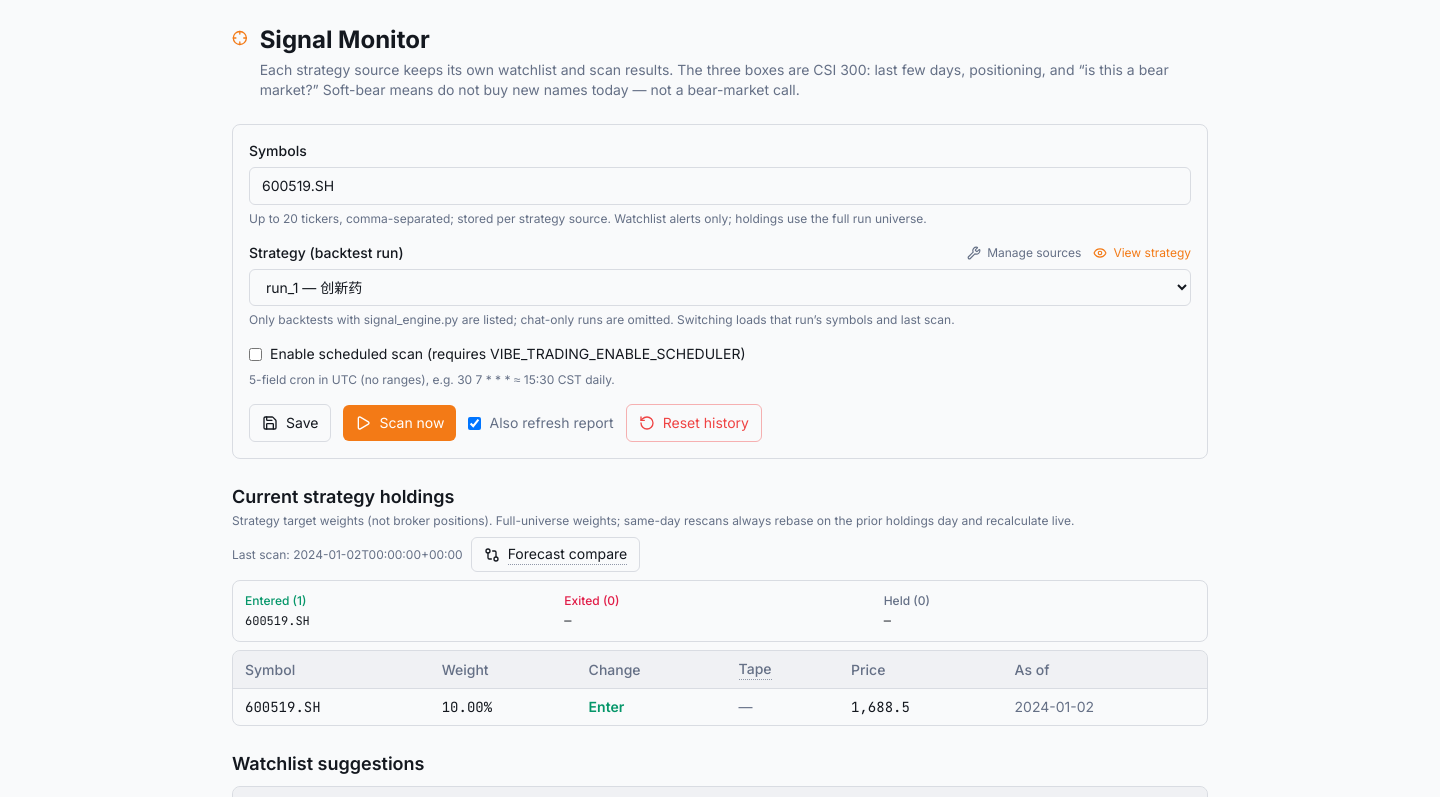
Monitor page › maintains strategy sources by deleting a run from the list
The image size is (1440, 797).
Click the button "Manage sources": coordinates (1024, 253) [967,245,1081,261]
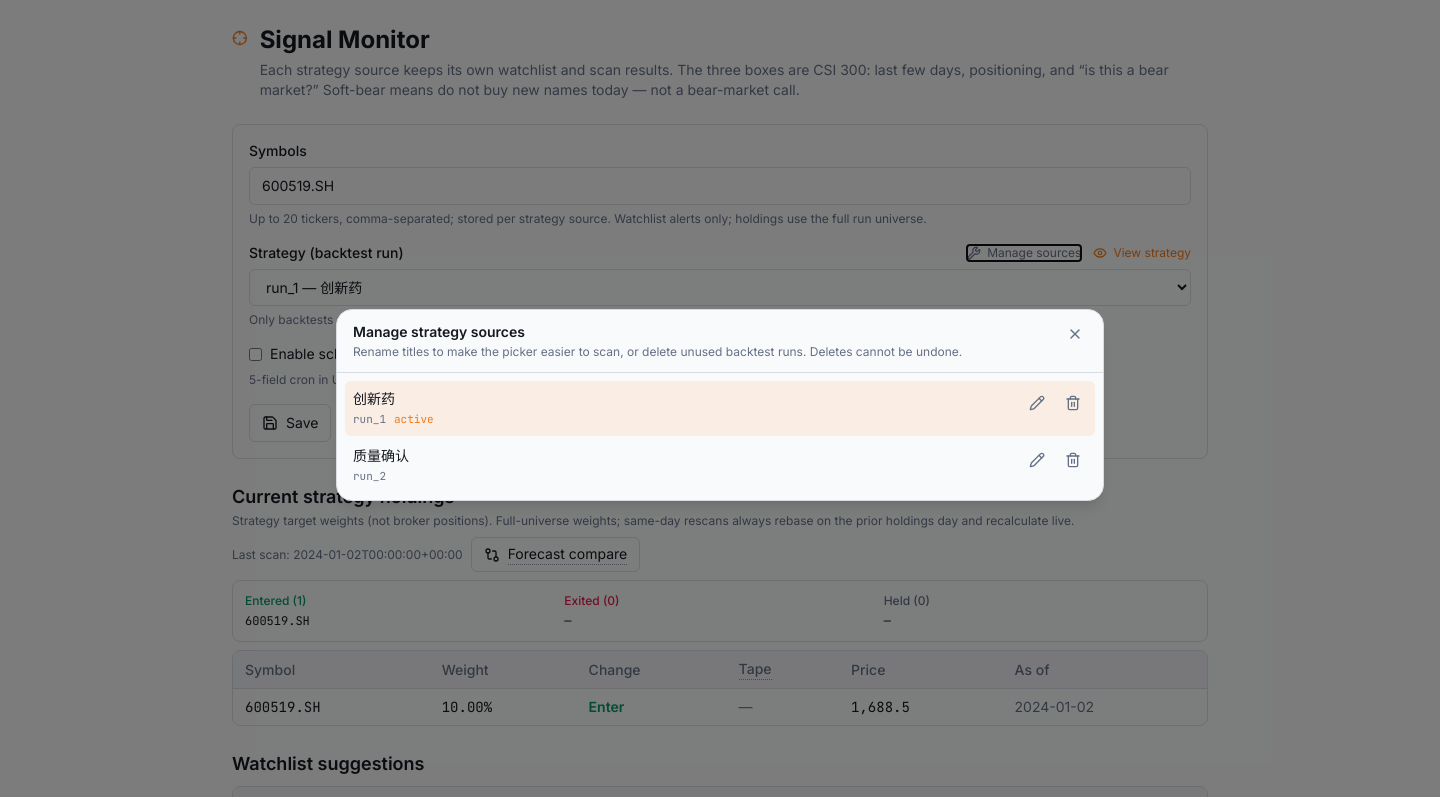
Expected: the dialog "Manage strategy sources" is shown, [336,309,1104,501]
Expected: the text "run_2" is shown, [353,468,386,482]
Expected: the number of buttons titled "delete this run" is 2
Click the button titled "delete this run" in the row of "质量确认": coordinates (1073, 460) [1059,446,1087,474]
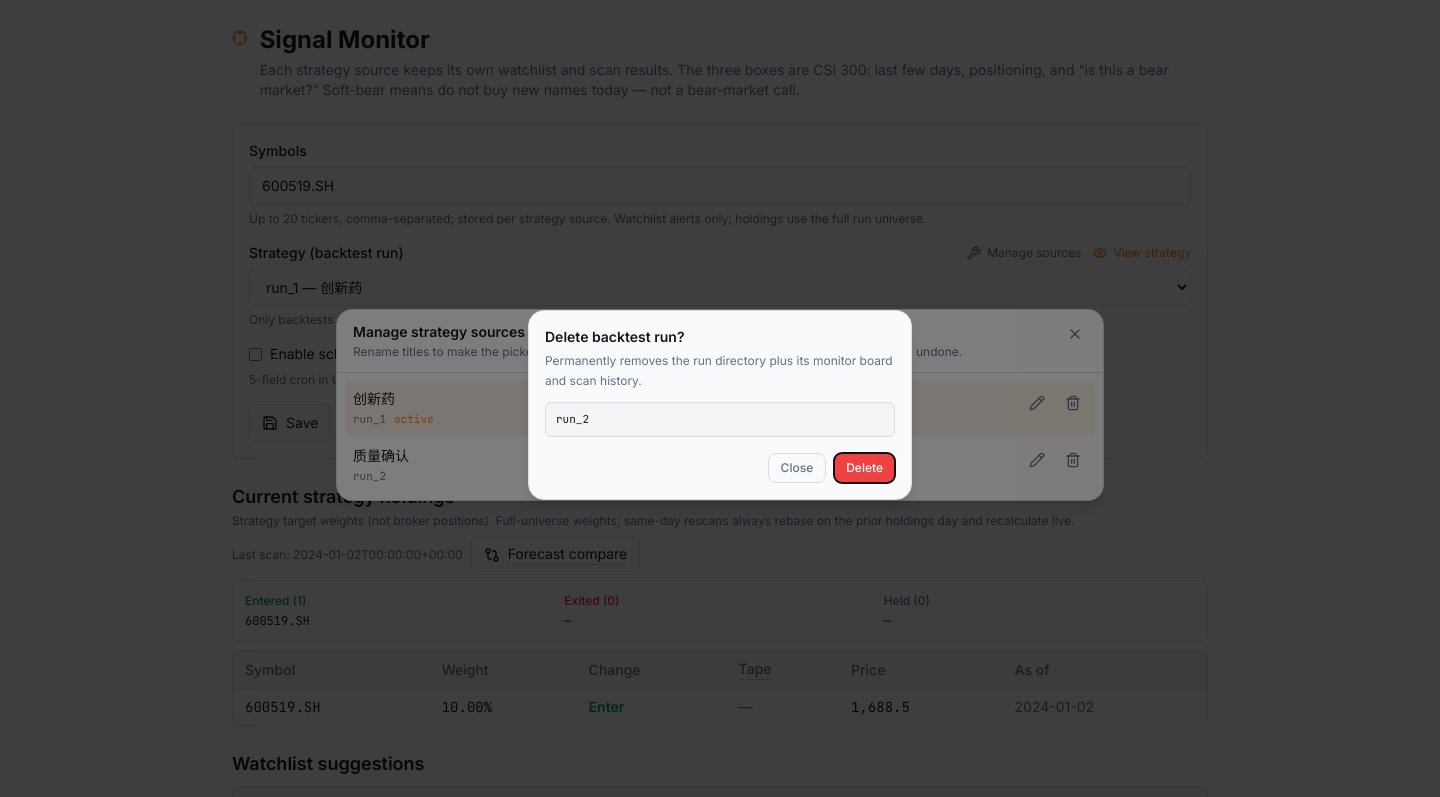
Expected: the heading "Delete backtest run?" is shown, [545,328,684,345]
Click the button "Delete": coordinates (865, 468) [834,453,895,483]
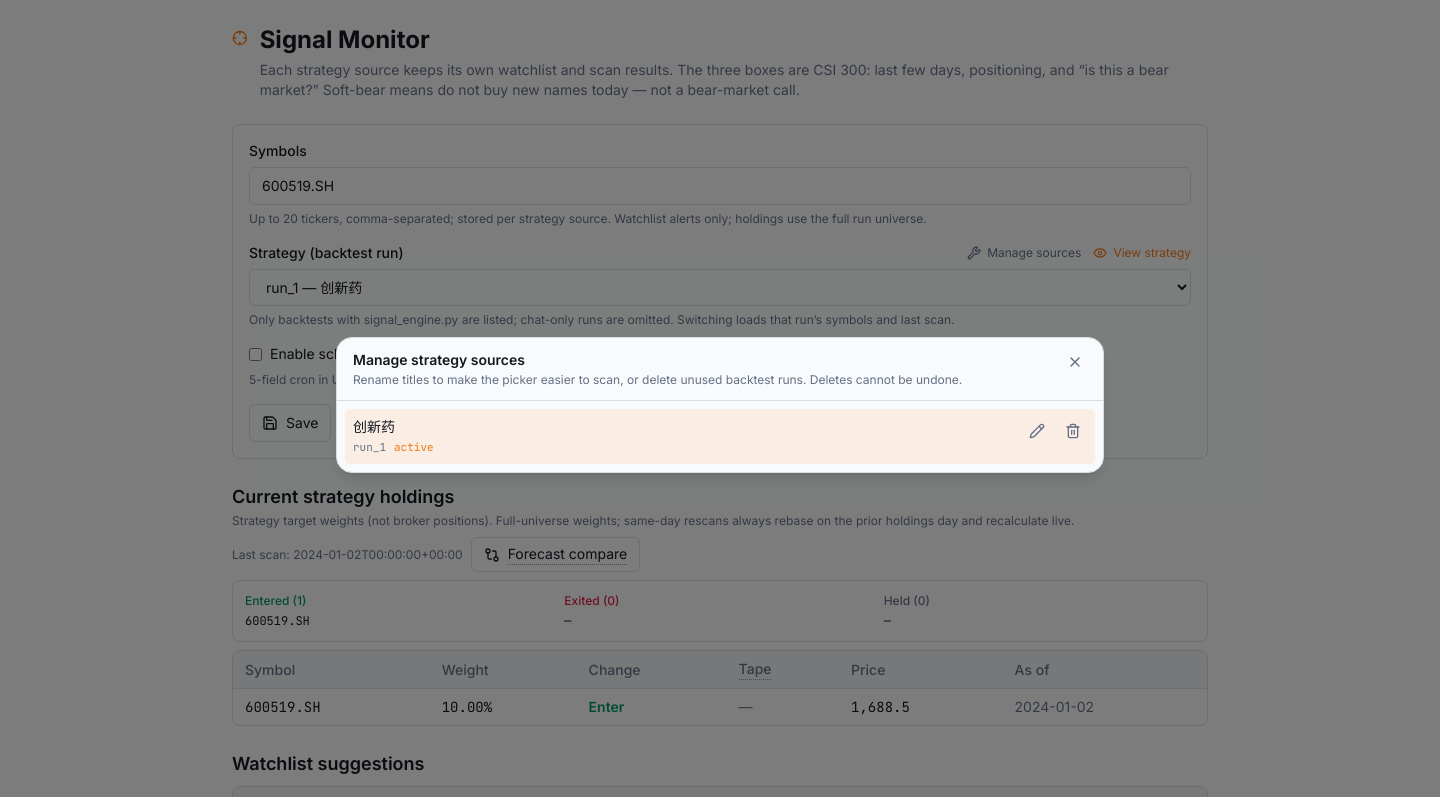
Expected: the text "run_2" is gone
